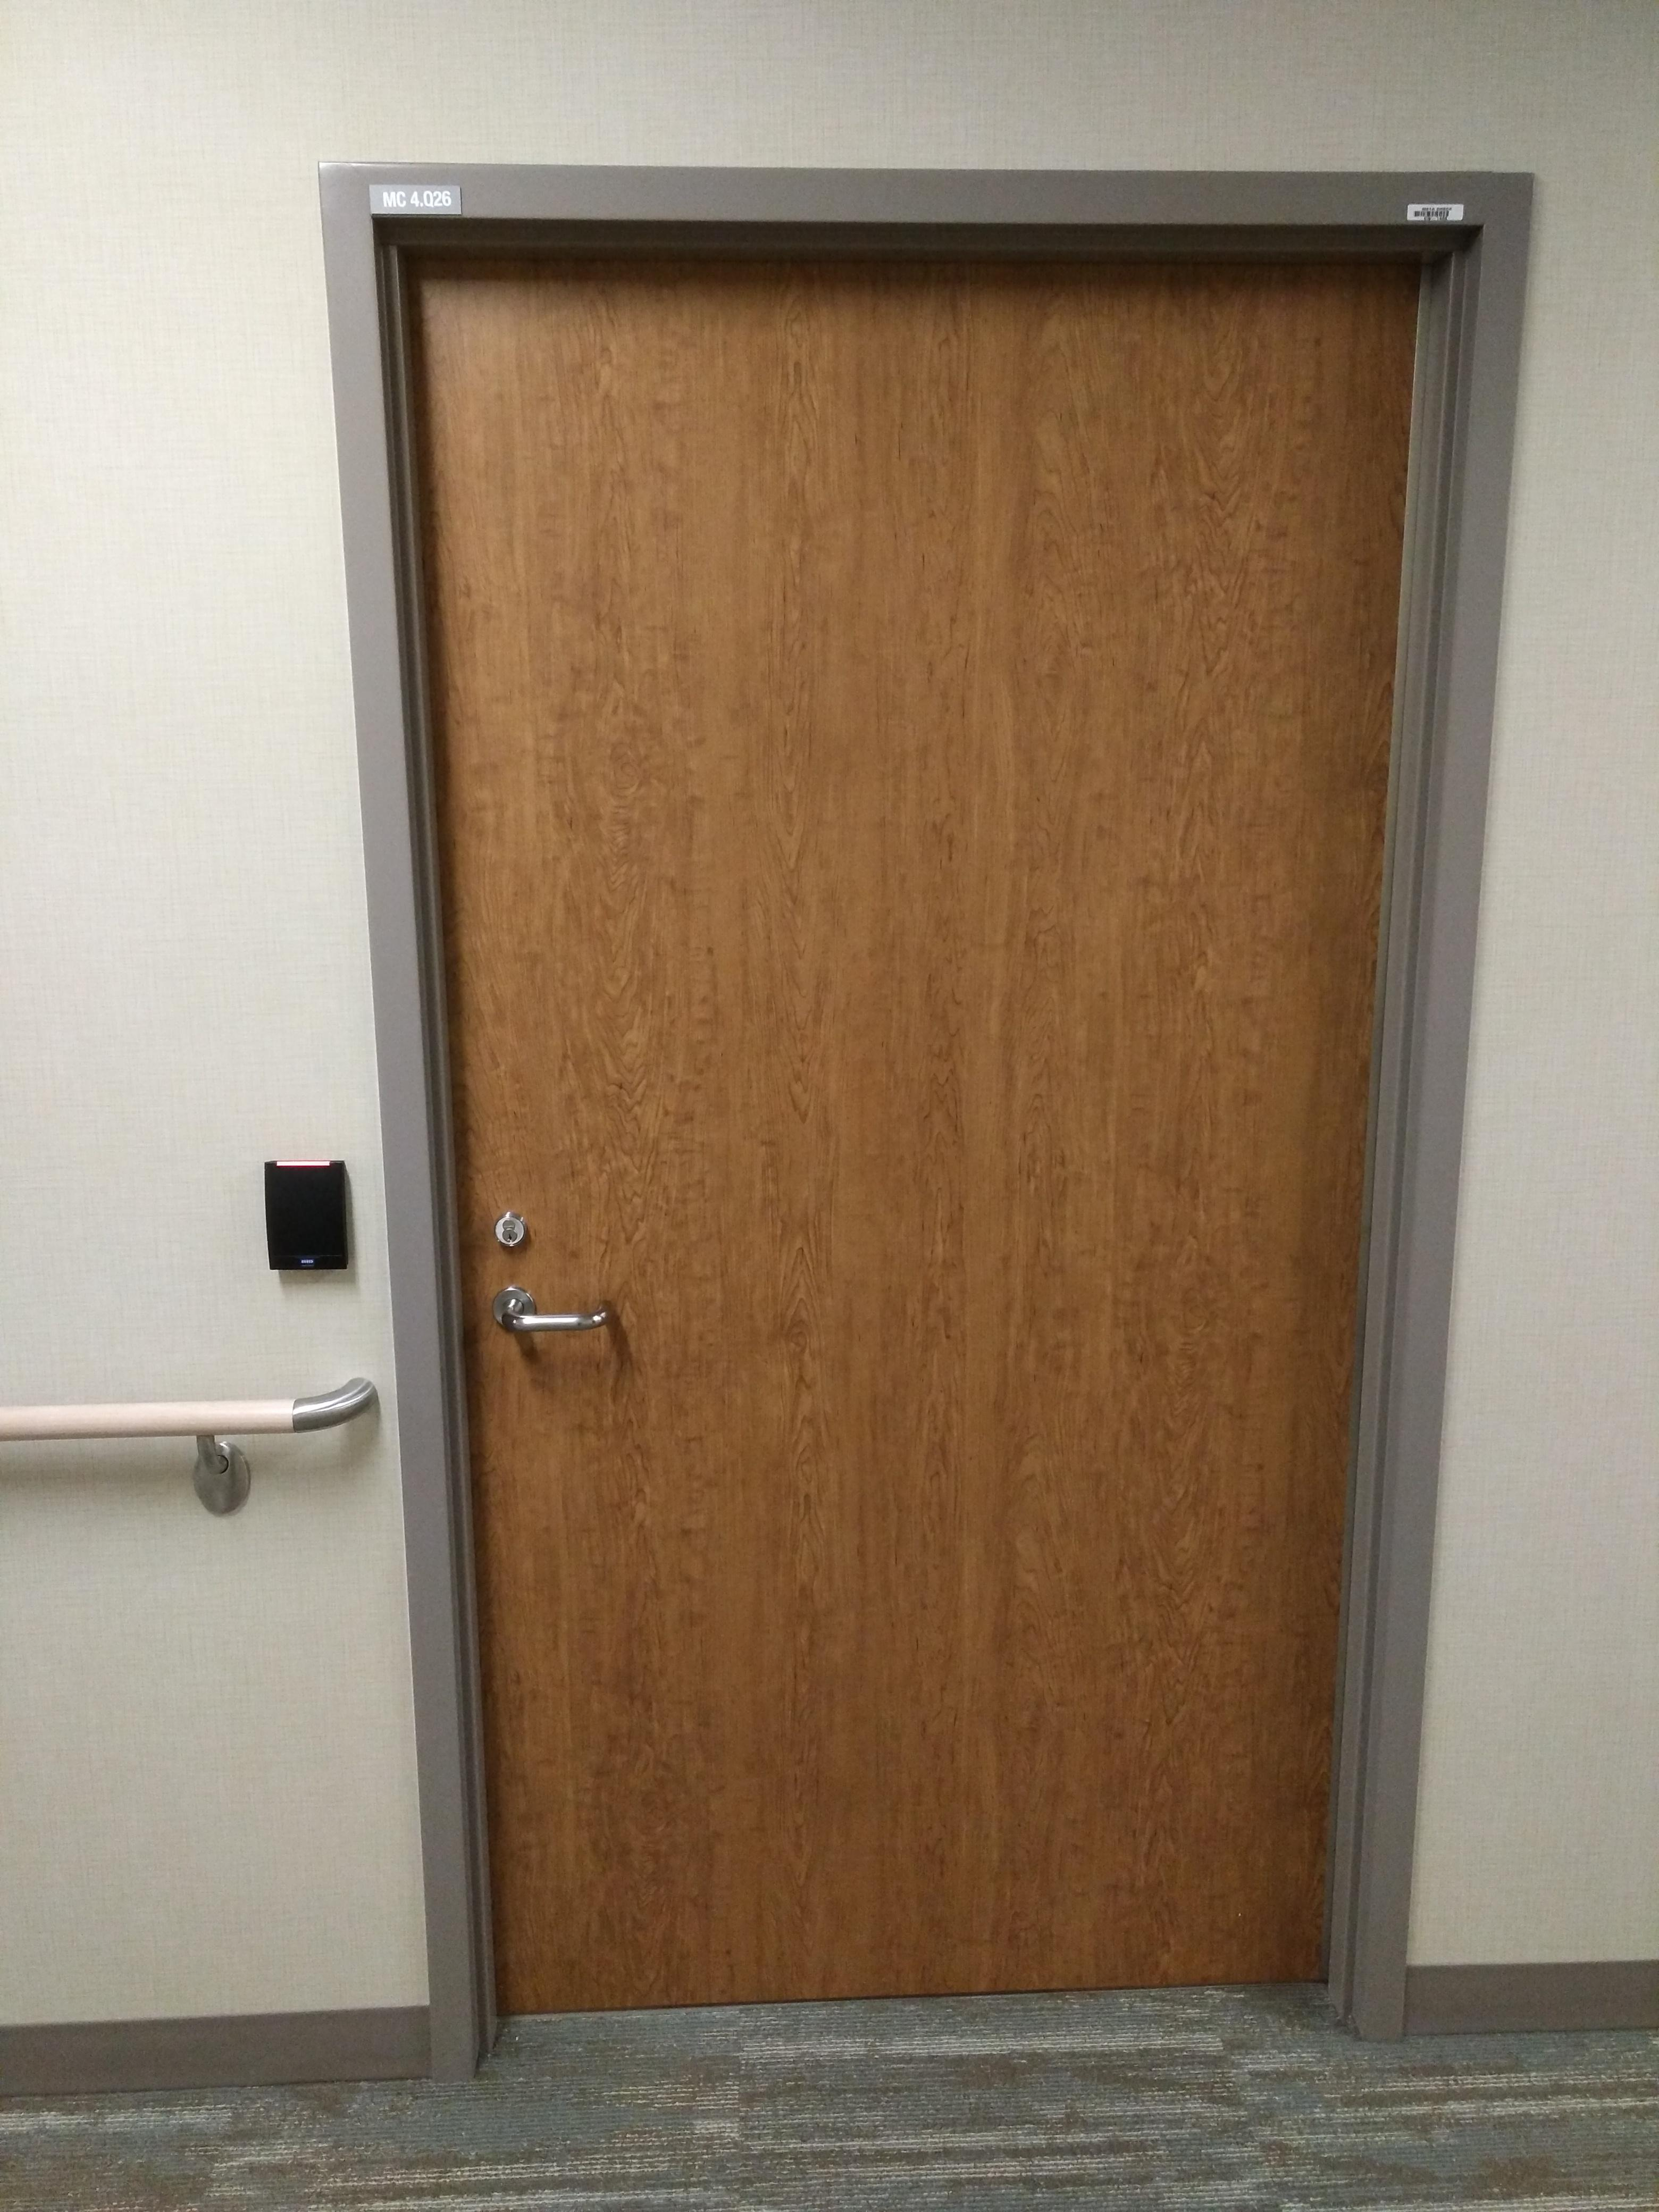door: (375, 200, 1391, 1993)
